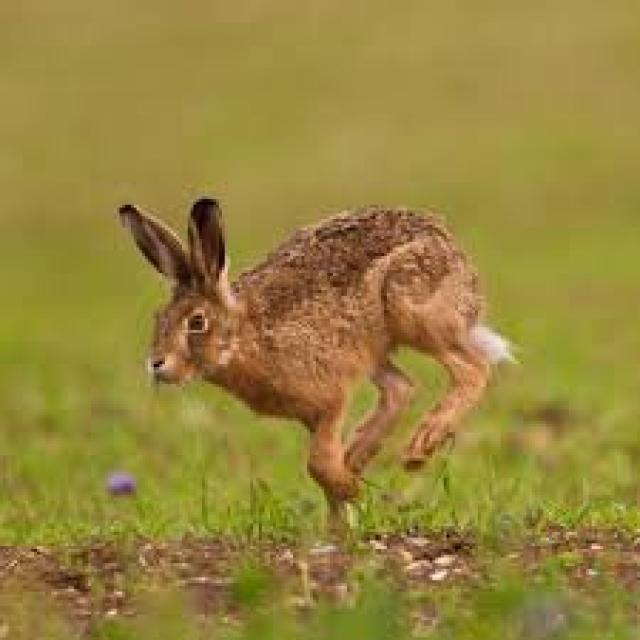Hare: (115, 179, 514, 533)
